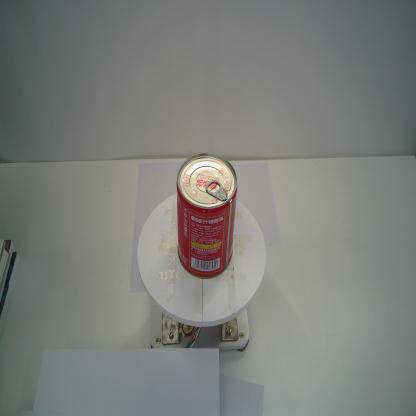Canned Food: (175, 151, 239, 280)
